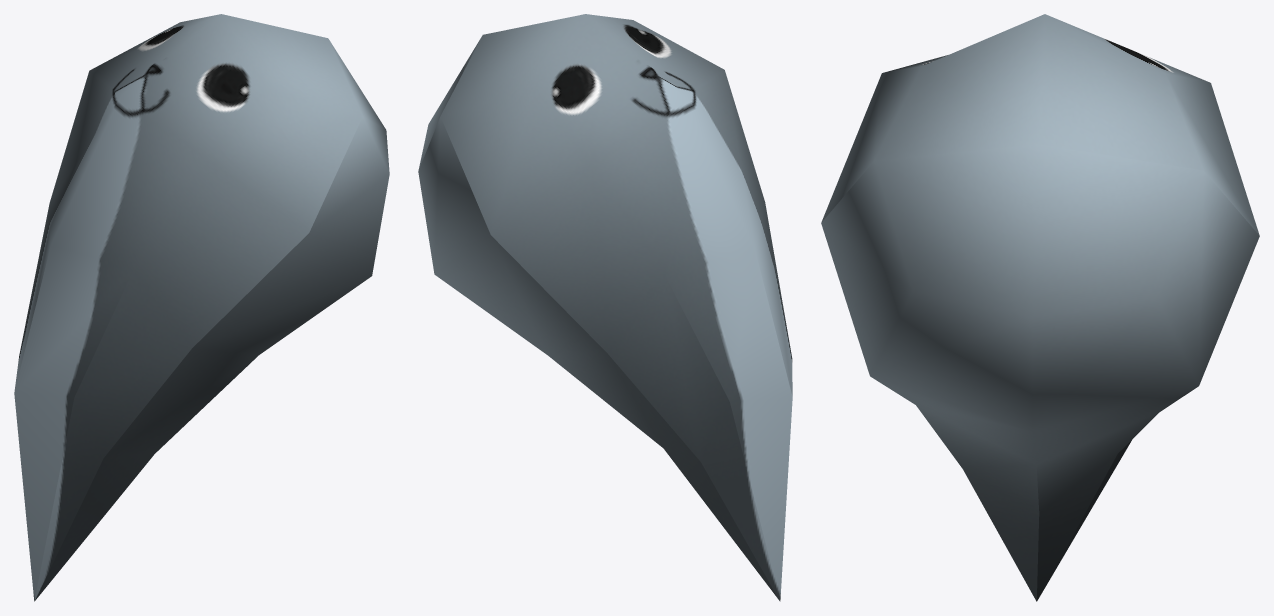
File: seal.fbx
3 views of the same model, side by side, from view 1: azimuth 30°, elevation 25°; view 2: azimuth 150°, elevation 25°; view 3: azimuth 270°, elevation 25° (orthographic). The views are drawn at different scales.
Visible parts, largest first — view 1: pCube1; view 2: pCube1; view 3: pCube1.
Boxes of the visible parts, x1,y1,x2,y2 form: pCube1: (14,14,389,601); pCube1: (418,14,792,601); pCube1: (821,14,1259,601).
Size of the model in its own units: 2.54 by 3.57 by 2.
1 material, 1 textured.
